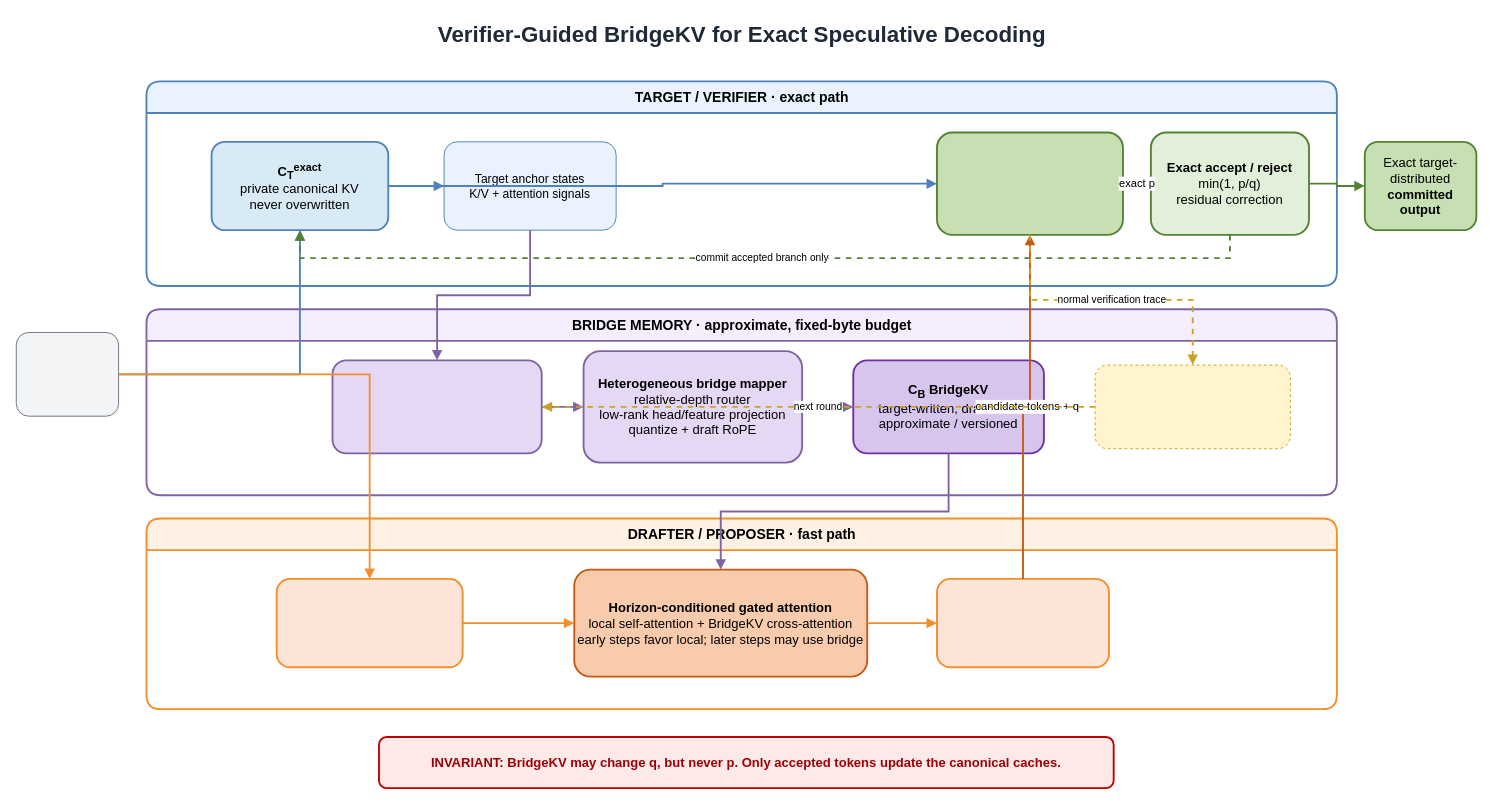
Image size: 1494x804. Some labels were removed from this diagram. The shapes that lost their labels are listed below. From the top down, each one's centre as x and y in pixels, then its label:
At pixel 1029 183: "Target verifier computes exact p and verification attention".
At pixel 67 374: "Committed prefix h".
At pixel 436 406: "Verifier-guided selector / critic chunk × layer utility under fixed byte budget".
At pixel 1192 406: "attention · TV/KL · rejection position gate calibration · measured latency".
At pixel 369 623: "C D local recent native draft KV small sliding window".
At pixel 1022 623: "Proposal q draft tokens + exact proposal probabilities".
